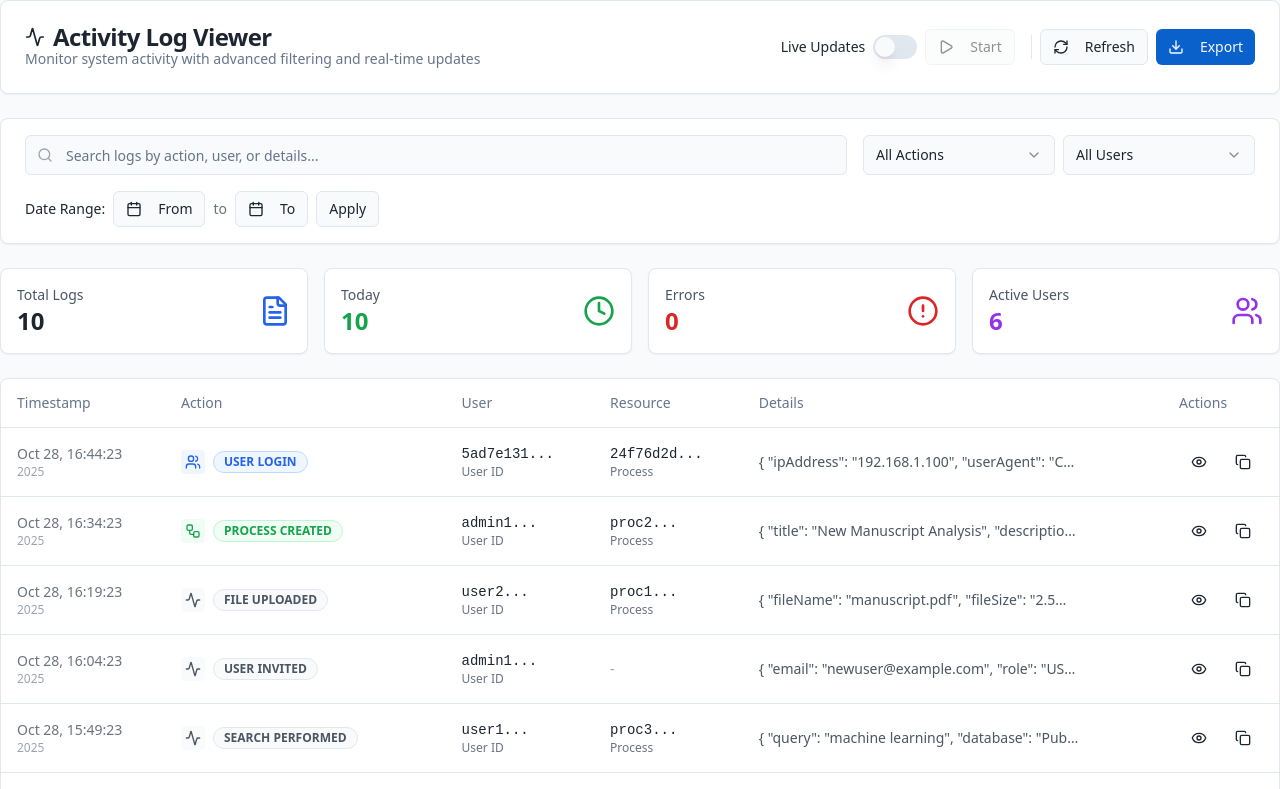
it: ActivityLogViewer › should handle date range filtering
// Click on date from button
Click the button "From" at coordinates (159, 209), box [113,191,205,227]
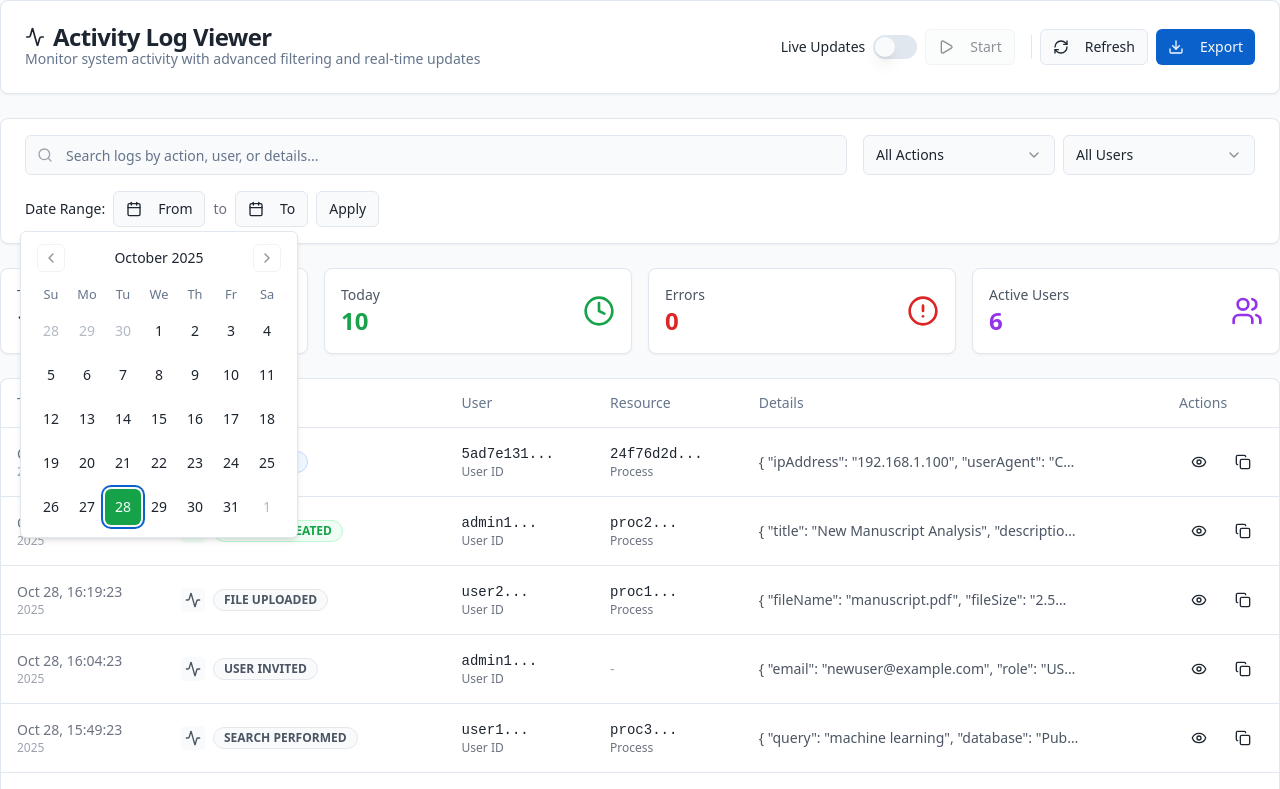
Check: the dialog is shown, box [20,231,298,538]
